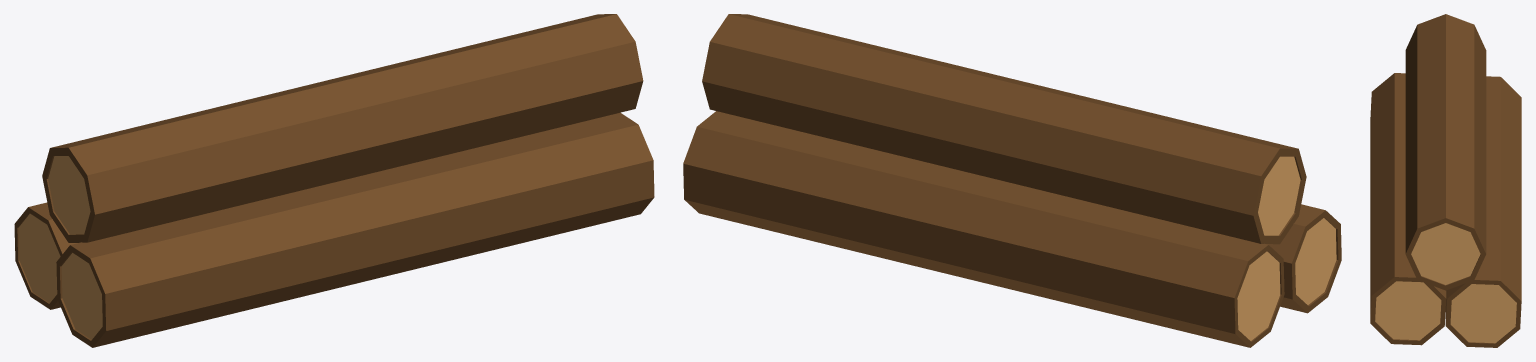
The model's file is madera.fbx.
The picture shows the model from 3 angles, left to right: view 1: azimuth 30°, elevation 25°; view 2: azimuth 150°, elevation 25°; view 3: azimuth 270°, elevation 25°; orthographic projection. The views are drawn at different scales.
Parts seen in each view (by area): view 1: Cylinder.002, Cylinder.001, Cylinder; view 2: Cylinder, Cylinder.001, Cylinder.002; view 3: Cylinder.001, Cylinder, Cylinder.002.
Part boxes in pixels (left/top/right/bottom): Cylinder.002: left=56, top=112, right=654, bottom=347; Cylinder.001: left=42, top=14, right=643, bottom=242; Cylinder: left=14, top=202, right=77, bottom=309; Cylinder: left=683, top=111, right=1284, bottom=347; Cylinder.001: left=702, top=14, right=1306, bottom=244; Cylinder.002: left=1266, top=204, right=1341, bottom=313; Cylinder.001: left=1405, top=14, right=1486, bottom=290; Cylinder: left=1445, top=76, right=1521, bottom=347; Cylinder.002: left=1370, top=73, right=1446, bottom=345.
Size of the model in its own units: 222 by 65.26 by 67.99.
